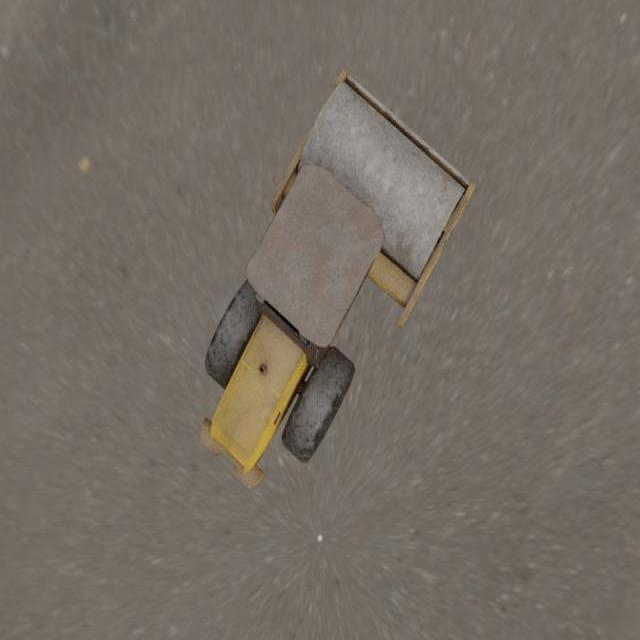Roller: (199, 68, 475, 488)
